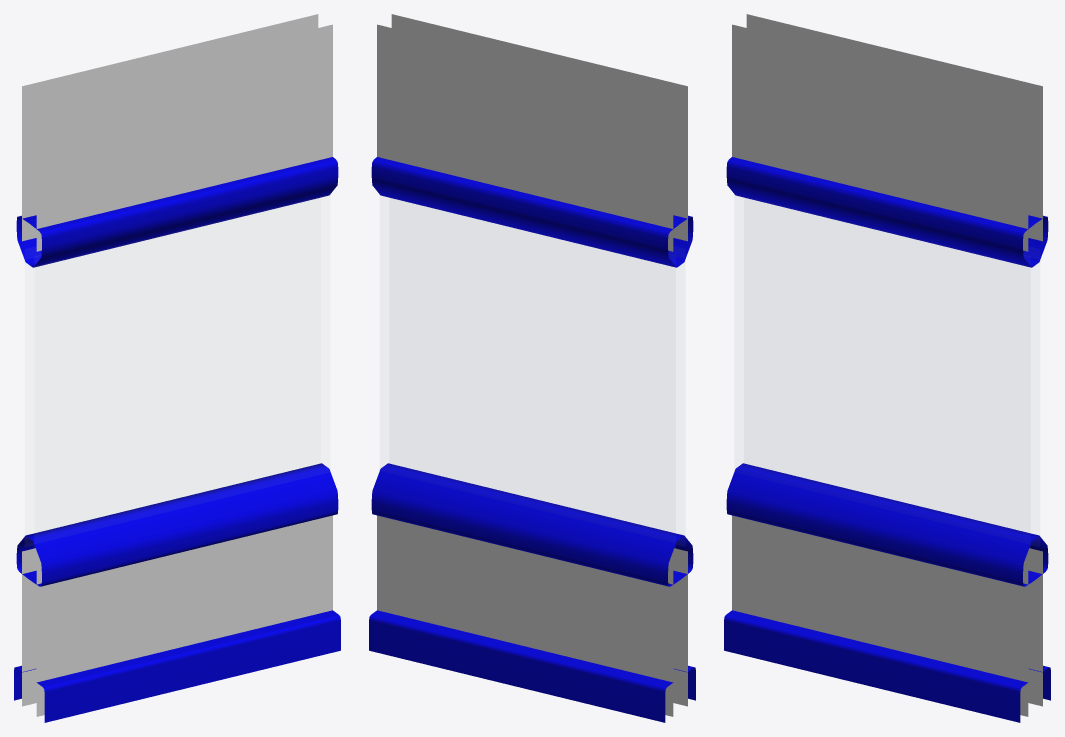
Rendered from HalfVertWindowMid.fbx.
3 renders of one model, left to right at view 1: azimuth 30°, elevation 25°; view 2: azimuth 150°, elevation 25°; view 3: azimuth 330°, elevation 25°, orthographic.
Visible parts, largest first — view 1: Wall, Glass, polySurface2, Trim, polySurface4; view 2: Wall, Glass, polySurface2, Trim, polySurface4; view 3: Wall, Glass, polySurface2, Trim, polySurface4.
Part boxes in pixels (bbox=[...]): Wall: bbox=[22, 14, 332, 716]; Glass: bbox=[35, 198, 320, 532]; polySurface2: bbox=[16, 463, 338, 586]; Trim: bbox=[14, 610, 340, 722]; polySurface4: bbox=[16, 157, 338, 267]; Wall: bbox=[377, 14, 687, 716]; Glass: bbox=[390, 198, 675, 532]; polySurface2: bbox=[371, 463, 693, 586]; Trim: bbox=[369, 610, 695, 722]; polySurface4: bbox=[371, 157, 693, 267]; Wall: bbox=[732, 14, 1042, 716]; Glass: bbox=[744, 198, 1029, 532]; polySurface2: bbox=[726, 463, 1048, 586]; Trim: bbox=[724, 610, 1050, 722]; polySurface4: bbox=[726, 157, 1048, 267].
Size of the model in its own units: 6 by 12 by 1.07.
